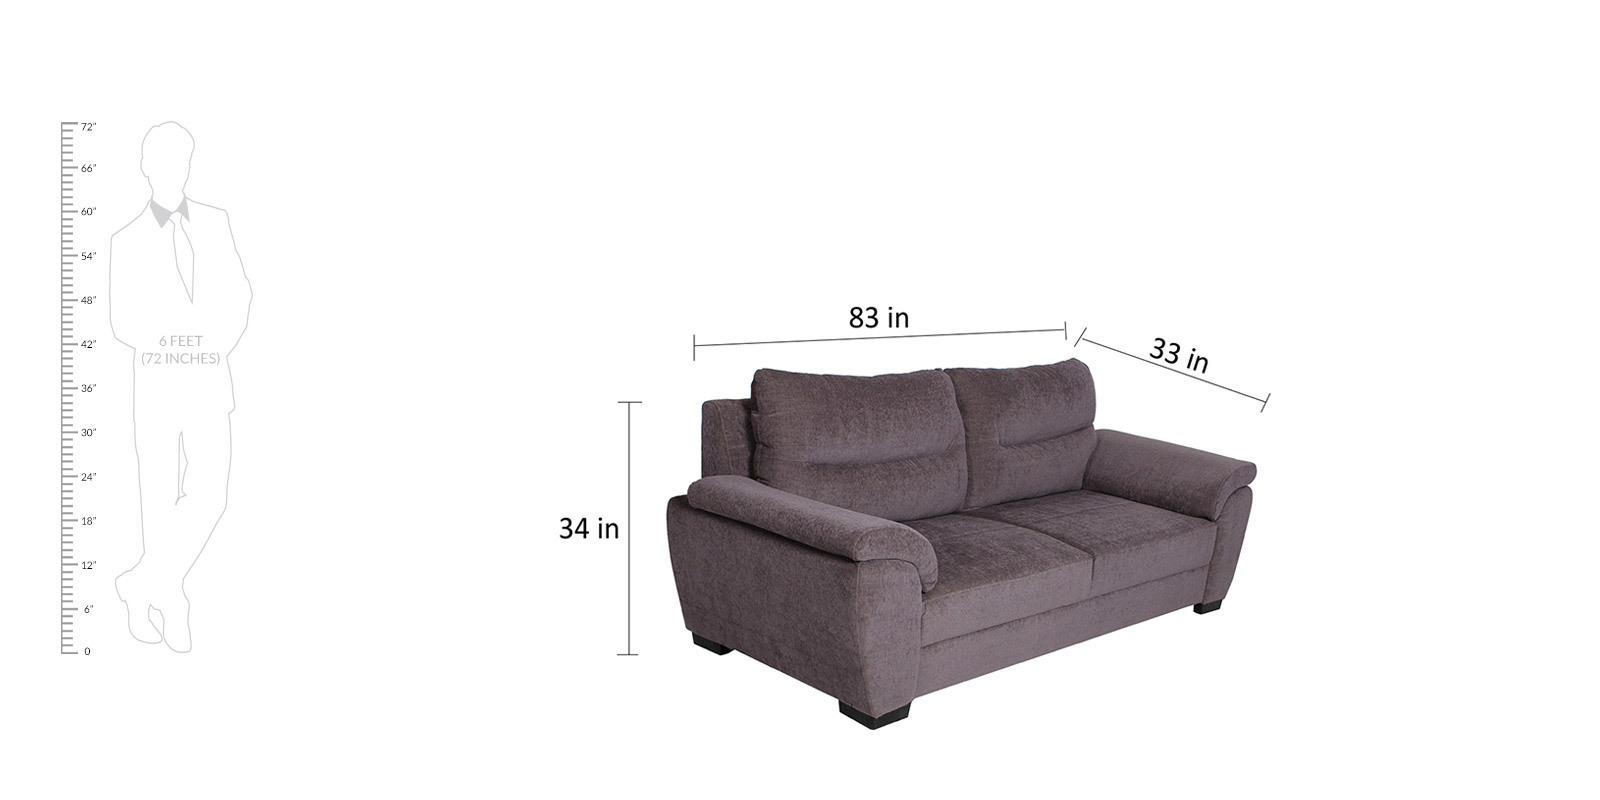Hamfir Three Seater Sofa in Brown Colour by Furniture Mind: (660, 356, 1303, 740)
